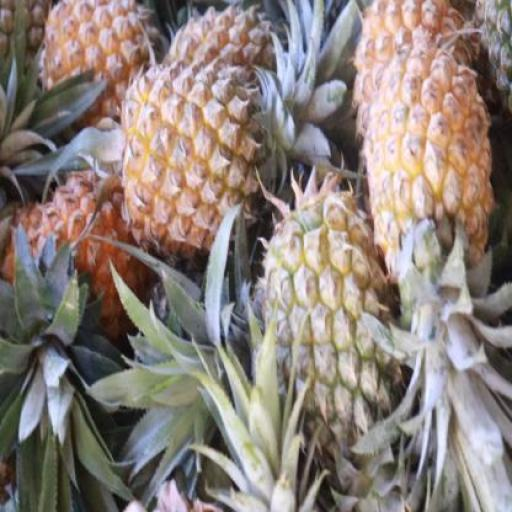------------------------------: (252, 198, 398, 448)
Pineapple - v8 v1: (370, 47, 492, 290), (121, 58, 259, 239), (0, 177, 142, 351), (43, 0, 163, 128)
